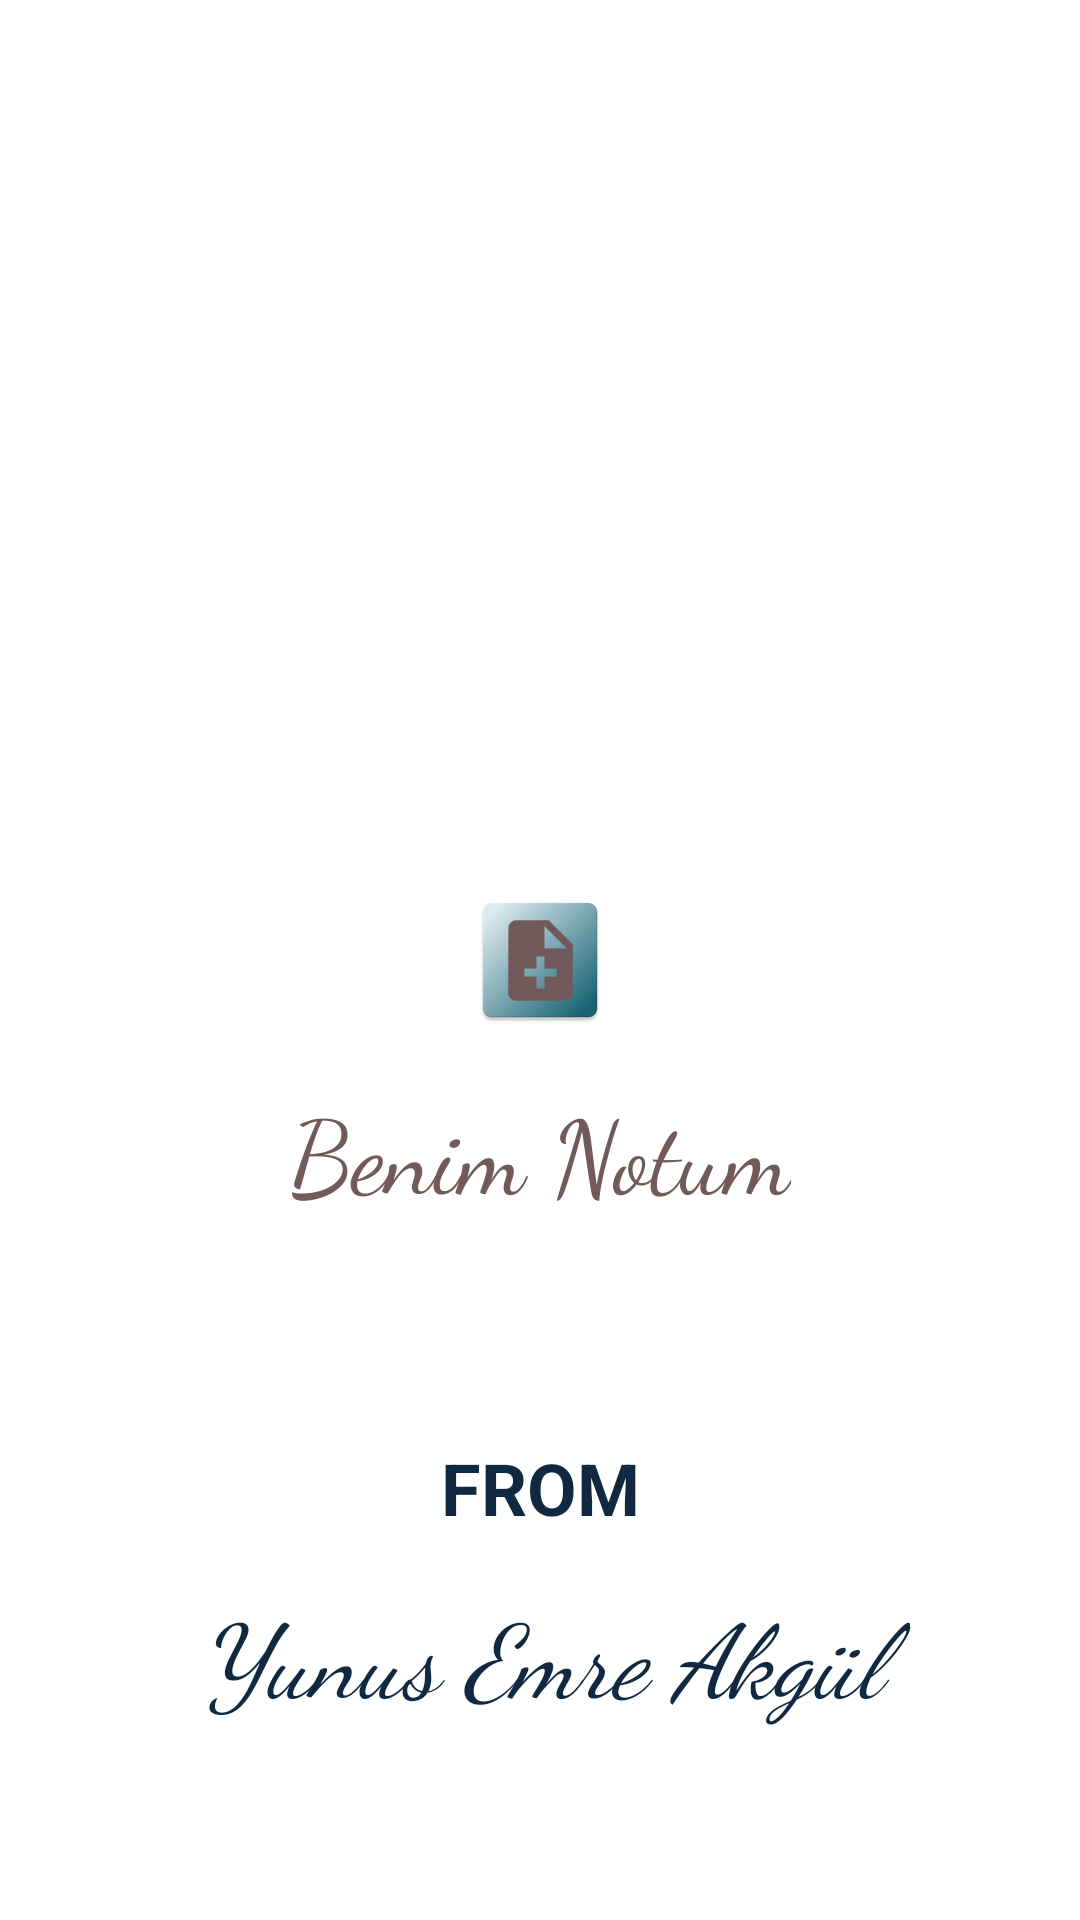

Locate icon controls on the screen. Image size 1080px x 1920px, boxes as (x1, y1, x2, y2).
app: (482, 903, 598, 1021)
